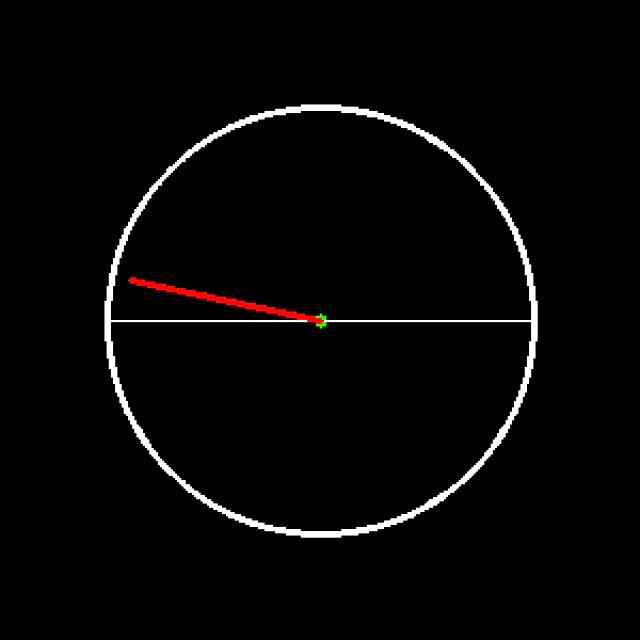Needle_Tip: (114, 262, 155, 308)
Needle_base: (285, 299, 358, 361)
